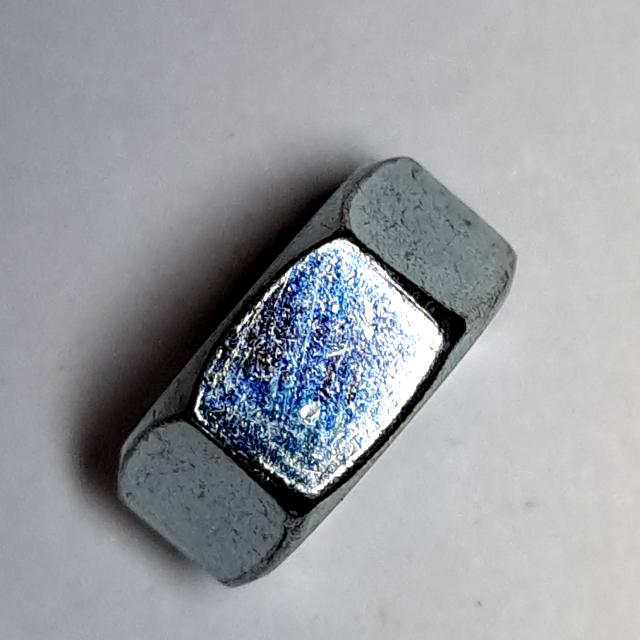Side_Excellent: (105, 141, 535, 597)
